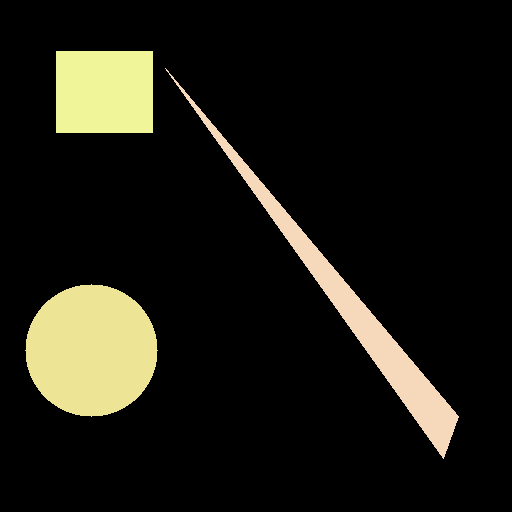circle: (25, 284, 157, 416)
rectangle: (56, 51, 152, 132)
triangle: (165, 68, 458, 458)
